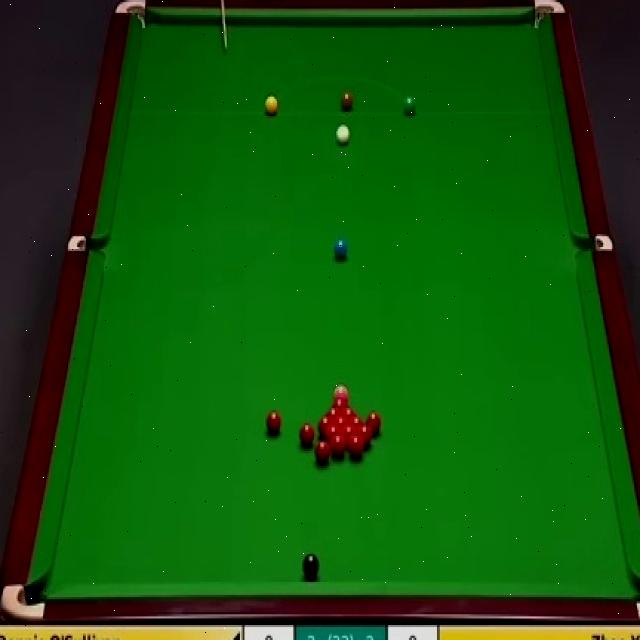black-ball: (302, 550, 320, 580)
blue-ball: (332, 237, 348, 262)
brown-ball: (340, 93, 352, 112)
green-ball: (403, 95, 416, 116)
pink-ball: (334, 385, 350, 399)
red-ball: (265, 412, 284, 438), (298, 422, 315, 450), (314, 440, 331, 468), (367, 408, 383, 434), (349, 434, 366, 457), (358, 424, 374, 448), (330, 435, 345, 460), (325, 424, 342, 446), (342, 424, 358, 445), (339, 408, 358, 422), (332, 397, 351, 408), (331, 416, 348, 426), (318, 416, 332, 428), (324, 408, 342, 417), (349, 417, 364, 426)
white-ball: (335, 122, 352, 144)
yellow-ball: (264, 93, 279, 116)
